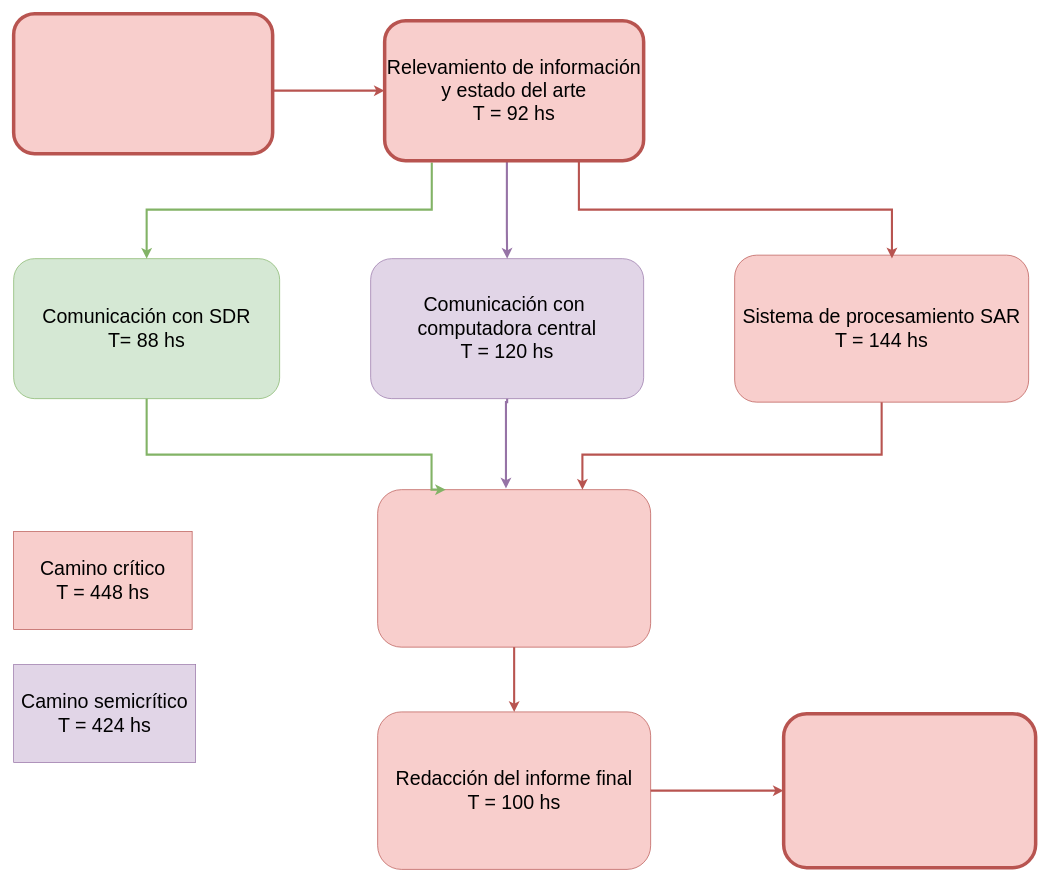
This 1049x882 diagram has some shape labels left out. Each missing label, with the box of its shape:
FIN PROYECTO: (782, 712, 1037, 869)
INICIO PROYECTO: (12, 12, 274, 155)
Integración de sistemas y pruebas de campo T = 112 hs: (377, 489, 651, 647)
